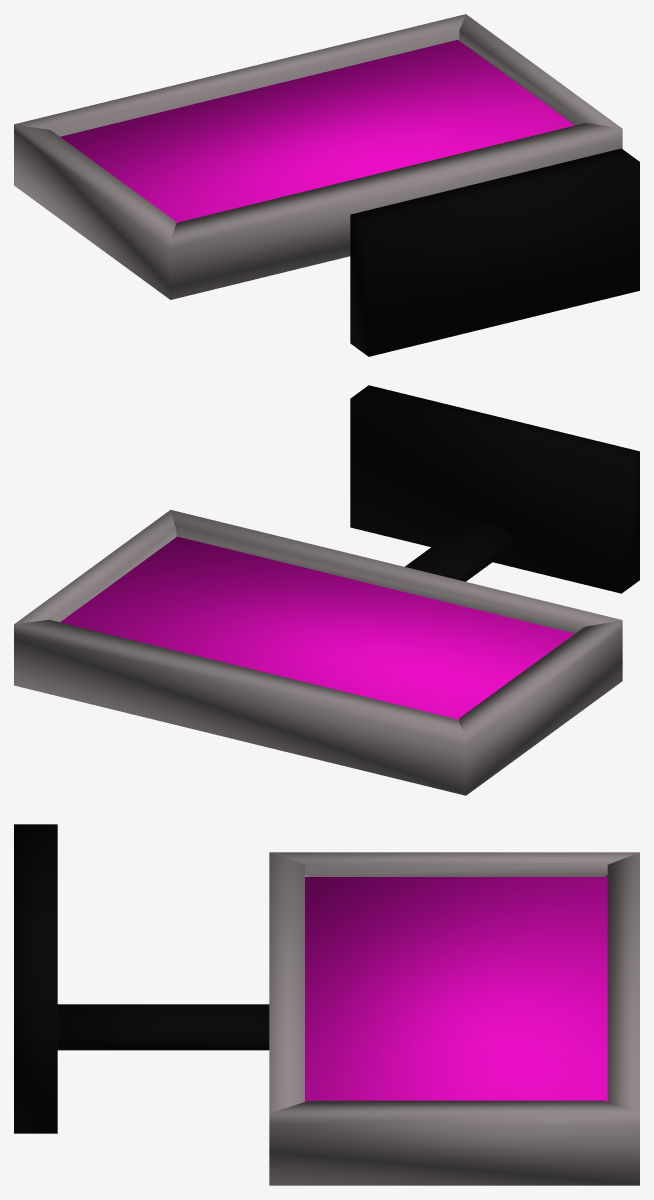
3 renders of one model, top to bottom at view 1: azimuth 30°, elevation 25°; view 2: azimuth 150°, elevation 25°; view 3: azimuth 270°, elevation 25°, orthographic. The views are drawn at different scales.
Parts seen in each view (by area): view 1: Cube, Screen; view 2: Cube, Screen; view 3: Cube, Screen.
Part boxes in pixels (x1,y1,x2,y2): Cube: (14, 14, 639, 356); Screen: (60, 39, 574, 225); Cube: (14, 385, 639, 795); Screen: (60, 536, 574, 721); Cube: (14, 824, 639, 1185); Screen: (305, 877, 607, 1101).
Size of the model in its own units: 0.0333 by 0.00908 by 0.0338.
